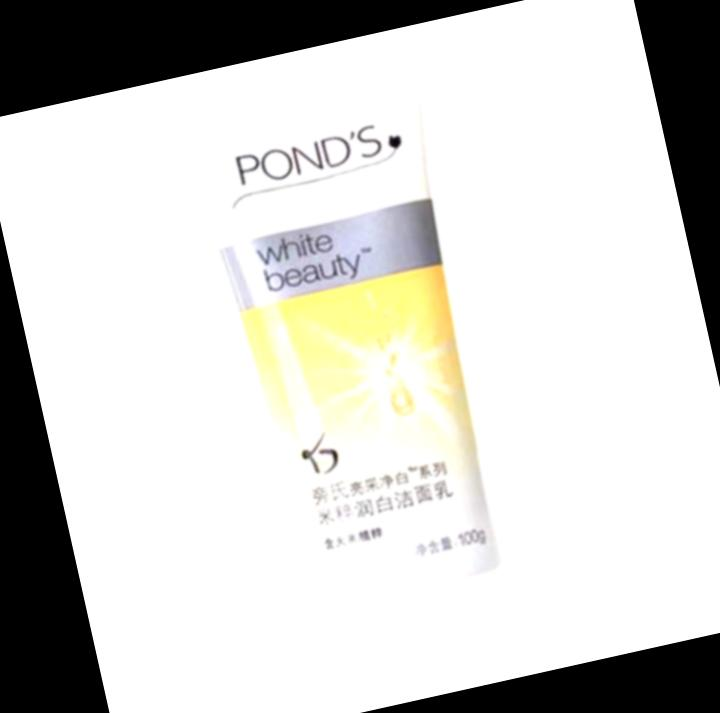cosmetic: (168, 54, 547, 702)
